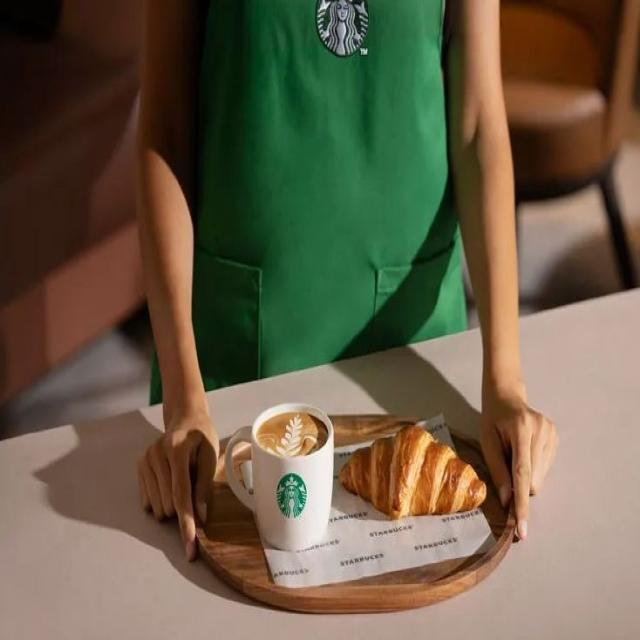starbucks: (314, 0, 374, 61), (276, 470, 308, 519)
